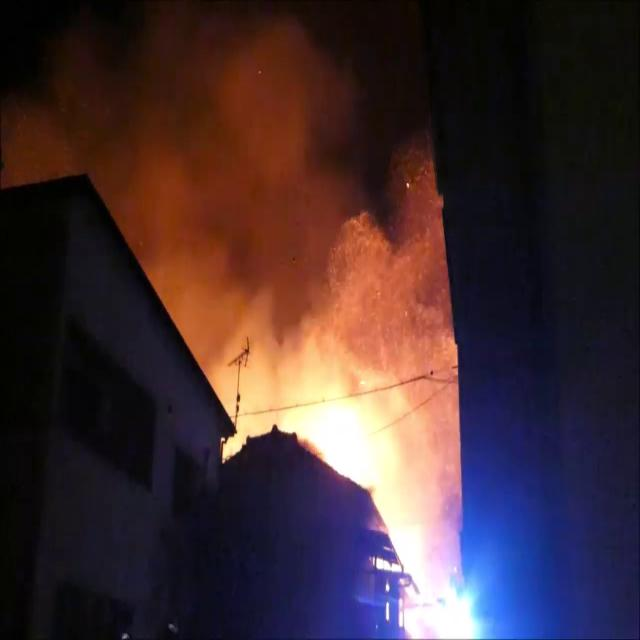Fire: (301, 335, 496, 635)
Smoke: (2, 2, 417, 386)
